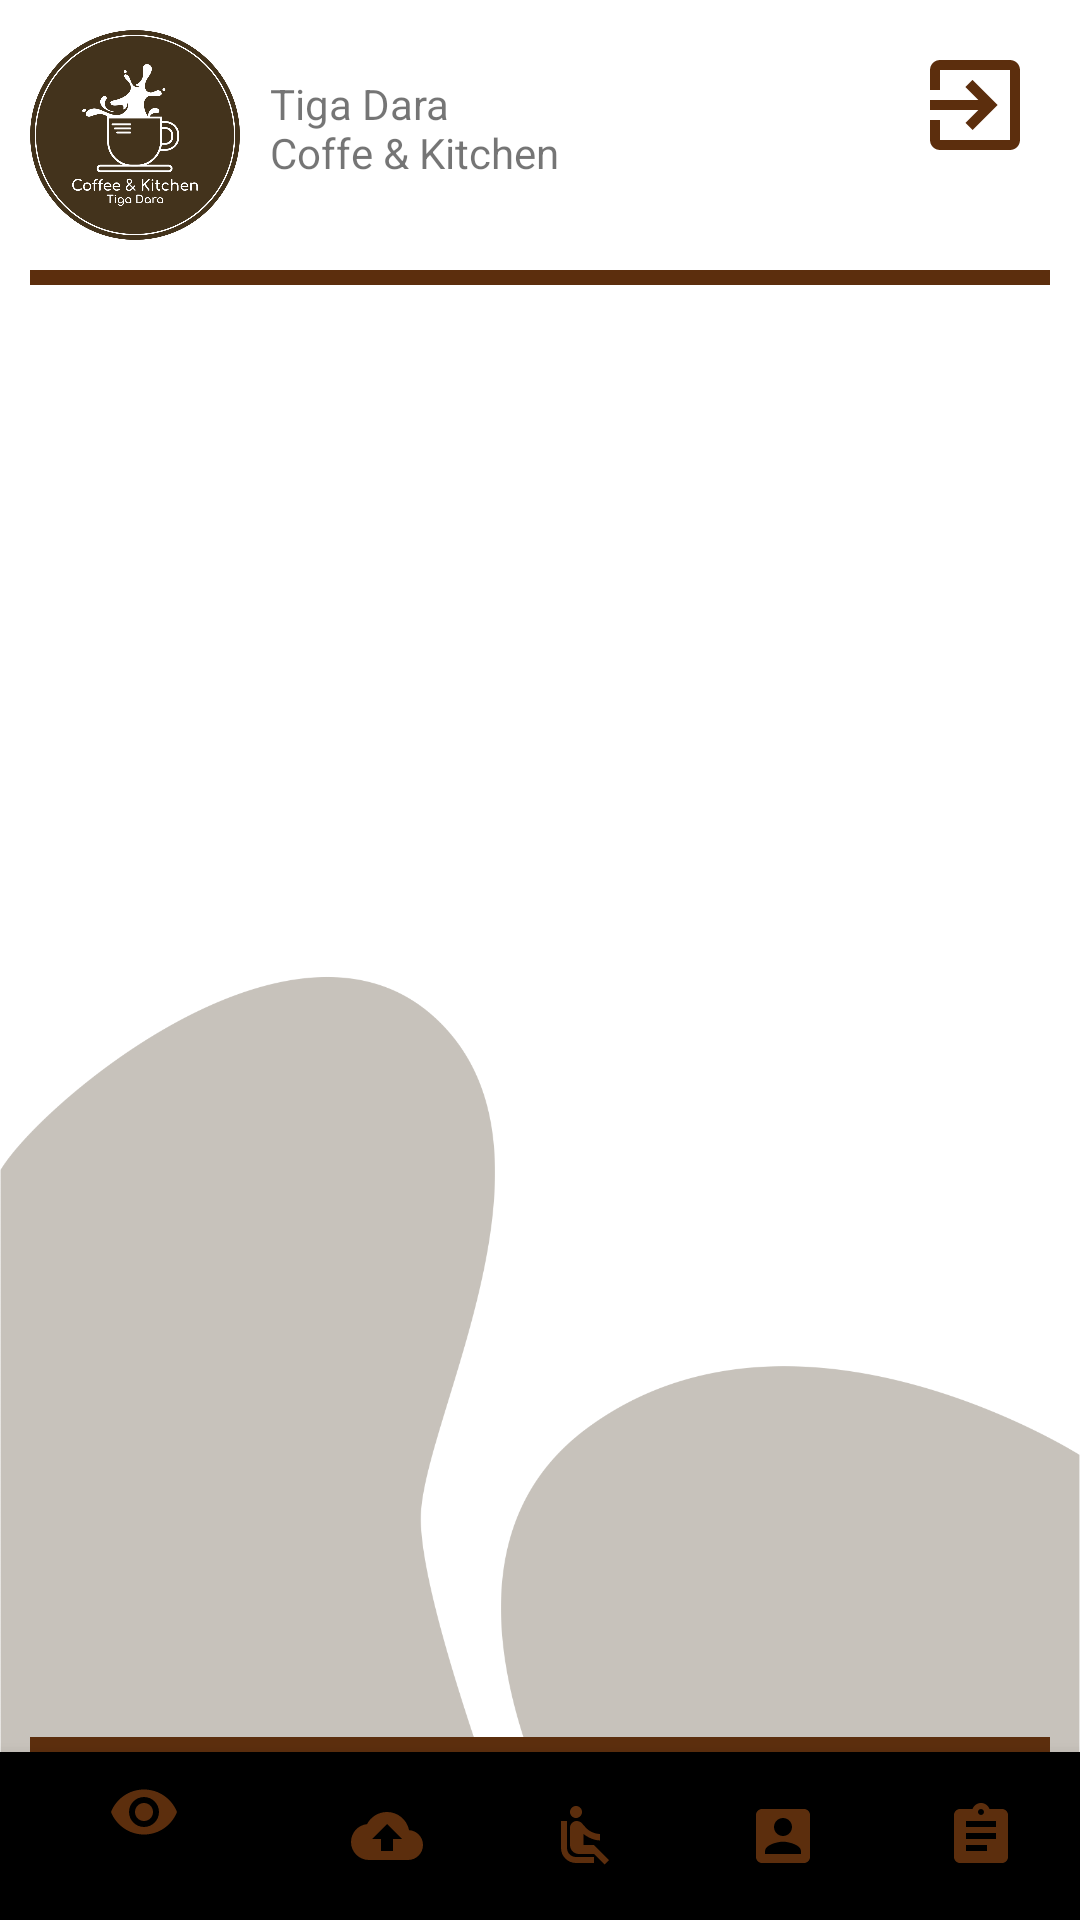

Where to tap for icons on this 1080 x 1920 app screen, as (x,y):
exit to app: (975,105)
